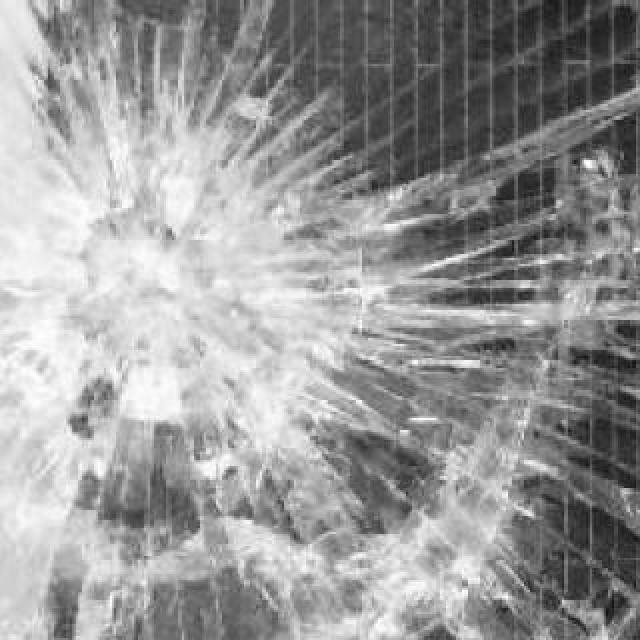Physical-damage: (2, 2, 633, 640)
